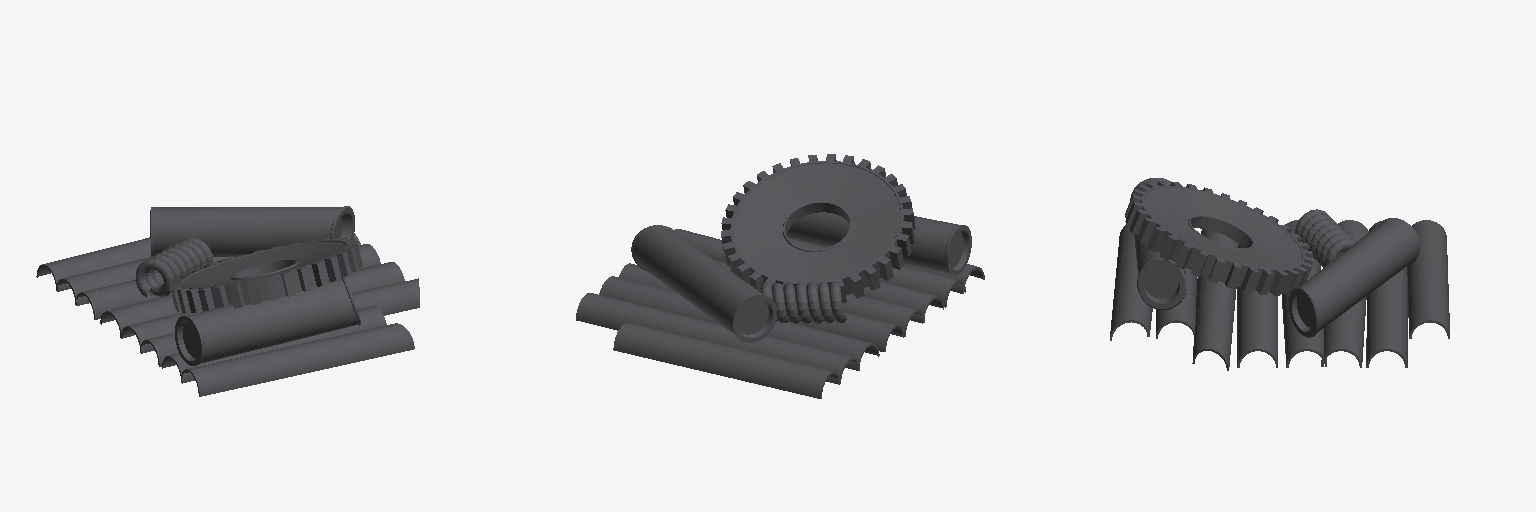
File: scraptemp.obj
The picture shows the model from 3 angles: view 1: azimuth 30°, elevation 25°; view 2: azimuth 150°, elevation 25°; view 3: azimuth 270°, elevation 25°; orthographic projection.
Visible parts, largest first — view 1: Gear1, Cylinder0091, Cylinder0081, Cylinder1, Spring1, Cylinder0031, Cylinder0021, Cylinder0071, Cylinder0041, Cylinder0011, Cylinder0061, Cylinder0051; view 2: Gear1, Cylinder0081, Cylinder0071, Cylinder0061, Cylinder0091, Cylinder0051, Spring1, Cylinder0041, Cylinder0021, Cylinder0011, Cylinder0031, Cylinder1; view 3: Gear1, Cylinder0081, Cylinder0071, Cylinder0021, Cylinder0061, Cylinder0031, Cylinder0091, Cylinder1, Cylinder0051, Spring1, Cylinder0041, Cylinder0011.
Part boxes in pixels (bbox=[...]): Gear1: bbox=[169, 237, 362, 312]; Cylinder0091: bbox=[175, 277, 360, 365]; Cylinder0081: bbox=[150, 206, 354, 256]; Cylinder1: bbox=[182, 323, 414, 396]; Spring1: bbox=[135, 237, 212, 298]; Cylinder0031: bbox=[121, 262, 404, 353]; Cylinder0021: bbox=[141, 278, 419, 366]; Cylinder0071: bbox=[36, 237, 150, 291]; Cylinder0041: bbox=[100, 244, 380, 338]; Cylinder0011: bbox=[162, 306, 386, 383]; Cylinder0061: bbox=[56, 257, 233, 305]; Cylinder0051: bbox=[76, 233, 360, 319]; Gear1: bbox=[721, 154, 915, 302]; Cylinder0081: bbox=[631, 225, 776, 342]; Cylinder0071: bbox=[613, 323, 839, 398]; Cylinder0061: bbox=[576, 293, 859, 384]; Cylinder0091: bbox=[787, 212, 971, 275]; Cylinder0051: bbox=[599, 276, 879, 370]; Spring1: bbox=[760, 282, 846, 323]; Cylinder0041: bbox=[619, 263, 903, 351]; Cylinder0021: bbox=[675, 229, 943, 323]; Cylinder0011: bbox=[788, 238, 965, 307]; Cylinder0031: bbox=[715, 260, 924, 336]; Cylinder1: bbox=[790, 238, 984, 293]; Gear1: bbox=[1125, 181, 1313, 295]; Cylinder0081: bbox=[1289, 218, 1419, 337]; Cylinder0071: bbox=[1407, 220, 1449, 338]; Cylinder0021: bbox=[1192, 229, 1238, 370]; Cylinder0061: bbox=[1366, 221, 1407, 367]; Cylinder0031: bbox=[1237, 244, 1277, 367]; Cylinder0091: bbox=[1130, 178, 1186, 309]; Cylinder1: bbox=[1110, 225, 1152, 340]; Cylinder0051: bbox=[1321, 220, 1368, 367]; Spring1: bbox=[1295, 209, 1355, 267]; Cylinder0041: bbox=[1281, 220, 1326, 367]; Cylinder0011: bbox=[1156, 268, 1196, 338].
Bounding box in the file's own units: 3.62 × 1.24 × 3.91.